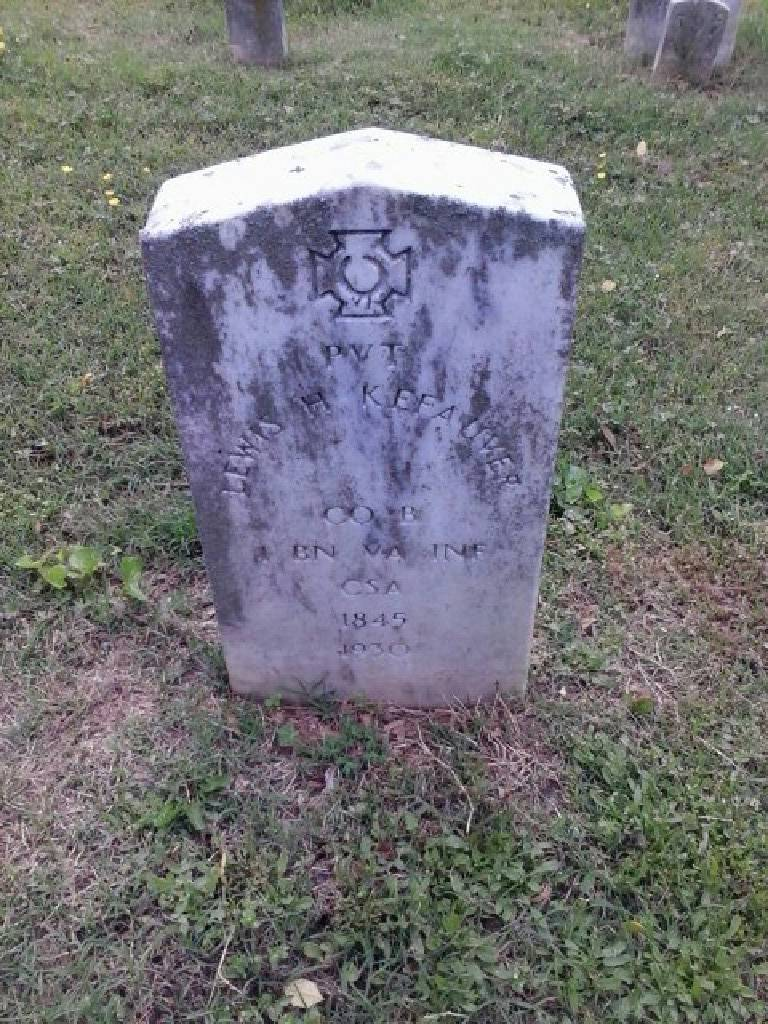upright: (151, 129, 585, 711)
